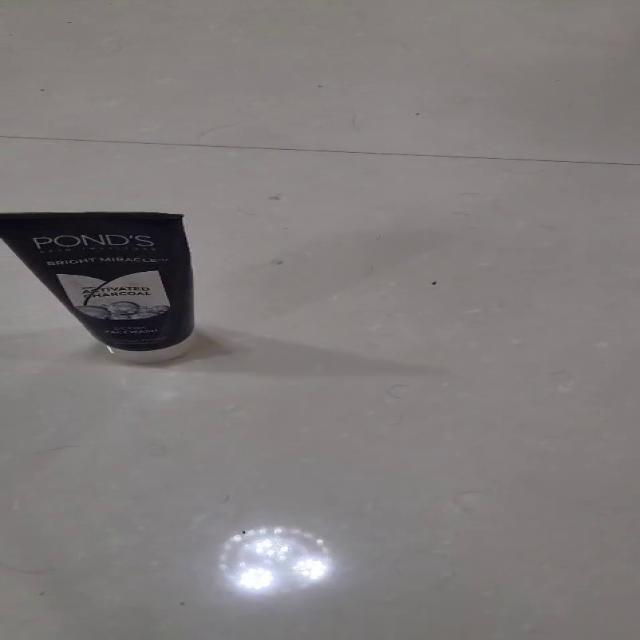plastic: (0, 210, 195, 363)
